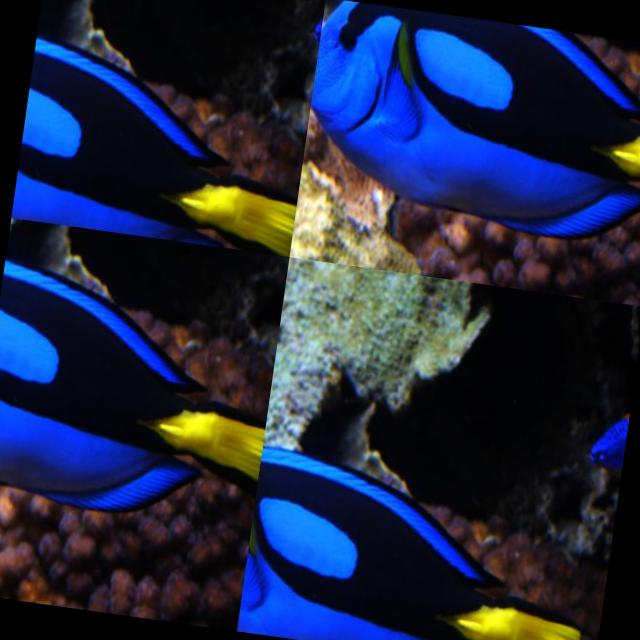BlueTang: (296, 0, 640, 257), (0, 256, 282, 536), (237, 450, 608, 640), (10, 34, 314, 260)
